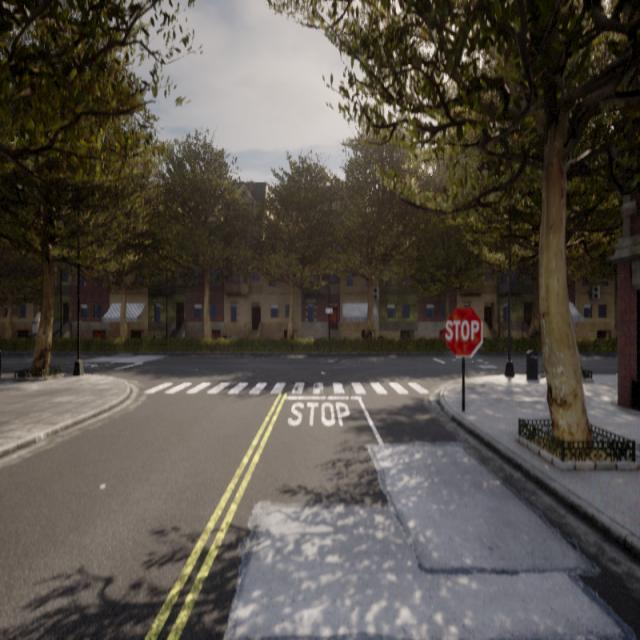stop sign: (442, 303, 484, 358), (444, 317, 480, 342)
